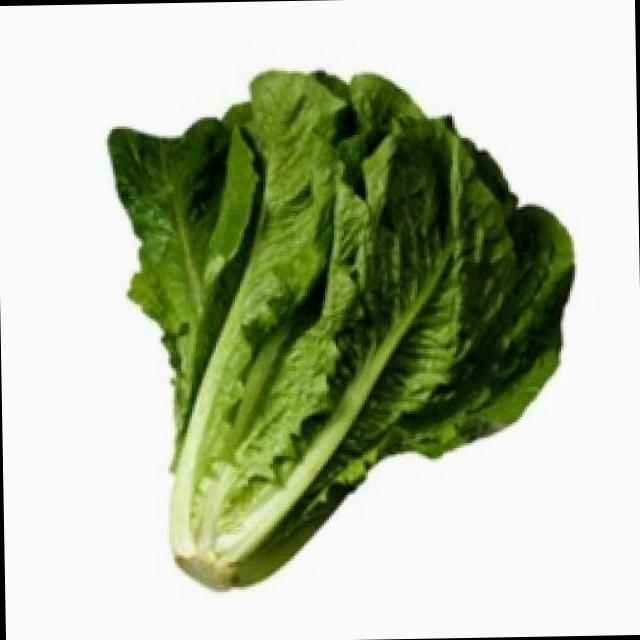Lettuce-Ready-to-Harvest: (108, 71, 573, 587)
